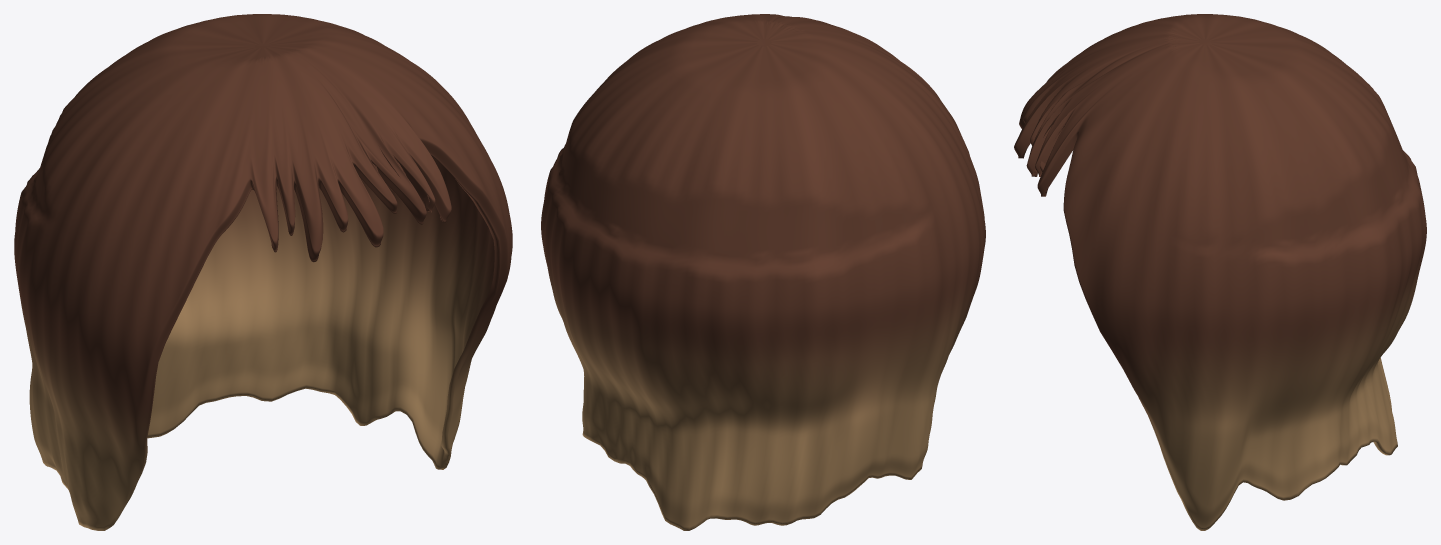
The model's file is side-sweep-bucket-ombre.glb.
3 renders of one model, left to right at view 1: azimuth 30°, elevation 25°; view 2: azimuth 150°, elevation 25°; view 3: azimuth 270°, elevation 25°, orthographic. The views are drawn at different scales.
Visible parts, largest first — view 1: Hair / layered lob; view 2: Hair / layered lob; view 3: Hair / layered lob.
Boxes of the visible parts, bbox=[...] form: Hair / layered lob: bbox=[14, 14, 512, 530]; Hair / layered lob: bbox=[541, 14, 985, 530]; Hair / layered lob: bbox=[1014, 14, 1426, 530].
Size of the model in its own units: 0.8388 by 0.8732 by 0.782.
